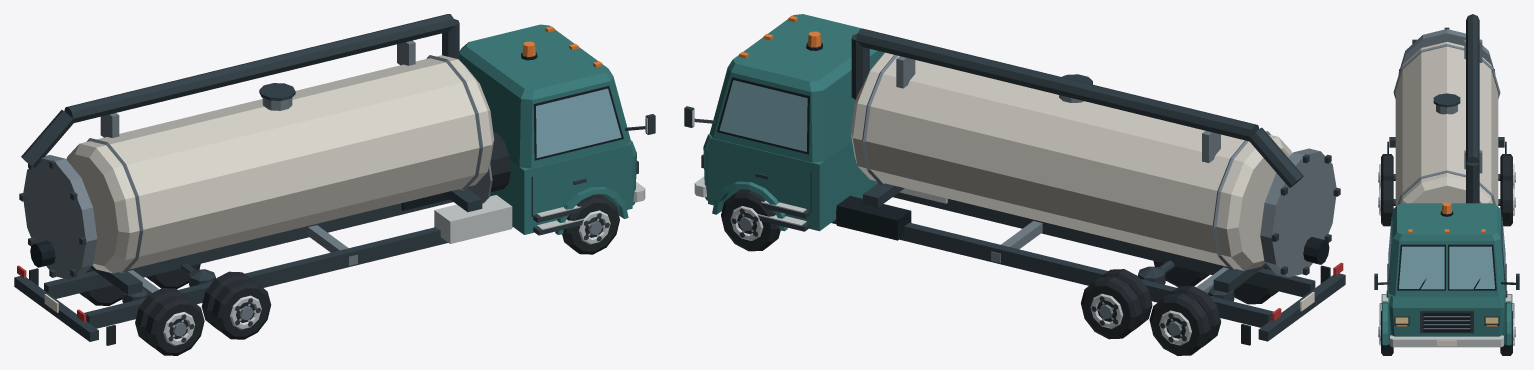
The model's file is b15_sewer_vacuum_truck.glb.
3 views of the same model, side by side, from view 1: azimuth 30°, elevation 25°; view 2: azimuth 150°, elevation 25°; view 3: azimuth 270°, elevation 25° (orthographic). The views are drawn at different scales.
Visible parts, largest first — view 1: b15_sewer_vacuum_truck; view 2: b15_sewer_vacuum_truck; view 3: b15_sewer_vacuum_truck.
Boxes of the visible parts, box(x1,y1,x2,y2) form: b15_sewer_vacuum_truck: box(14, 14, 655, 355); b15_sewer_vacuum_truck: box(684, 14, 1345, 355); b15_sewer_vacuum_truck: box(1374, 14, 1519, 355).
Bounding box in the file's own units: 10.18 × 3.69 × 2.92.
